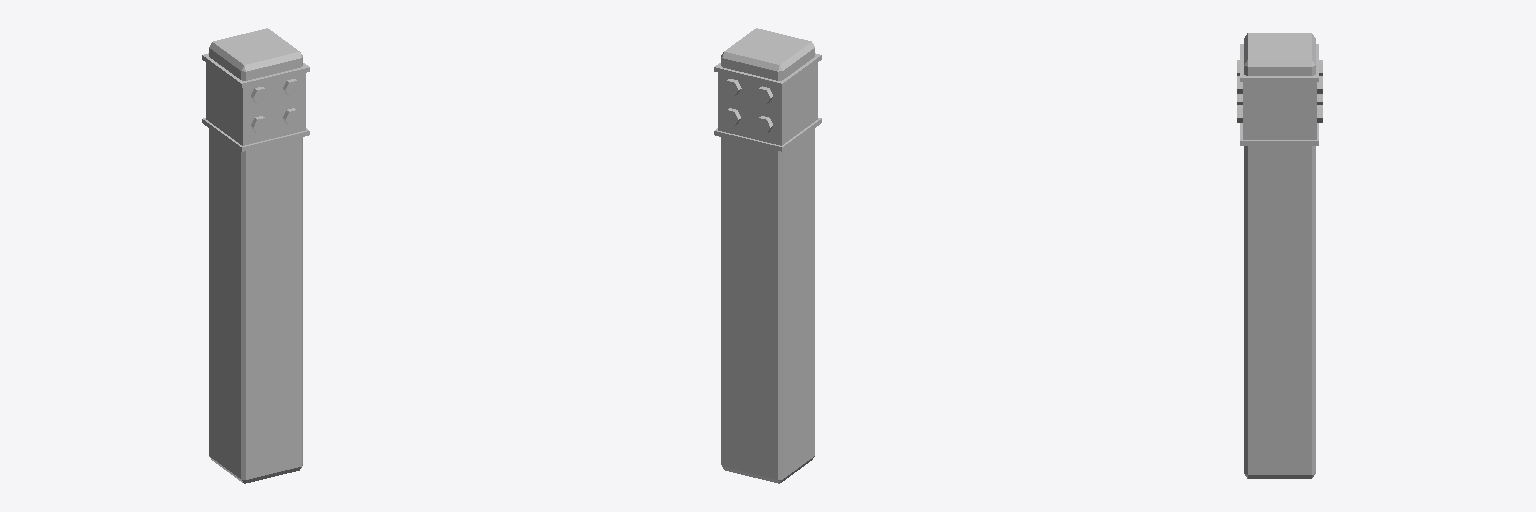
File: wooden beam.obj
The picture shows the model from 3 angles: view 1: azimuth 30°, elevation 25°; view 2: azimuth 150°, elevation 25°; view 3: azimuth 270°, elevation 25°; orthographic projection.
Parts seen in each view (by area): view 1: Wooden_beam1; view 2: Wooden_beam1; view 3: Wooden_beam1.
Part boxes in pixels (left/top/right/bottom): Wooden_beam1: left=202, top=28, right=309, bottom=483; Wooden_beam1: left=714, top=28, right=821, bottom=483; Wooden_beam1: left=1237, top=33, right=1322, bottom=478.
Size of the model in its own units: 68.26 by 400 by 73.87.